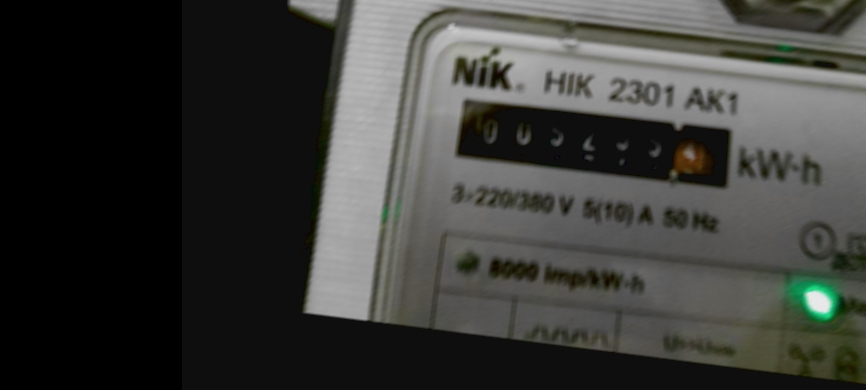0: (513, 114, 537, 149), (481, 114, 503, 147)
2: (578, 119, 604, 156)
3: (611, 121, 639, 157)
4: (679, 130, 705, 168)
5: (644, 124, 670, 163), (547, 116, 570, 151)
screen: (439, 80, 749, 204)
